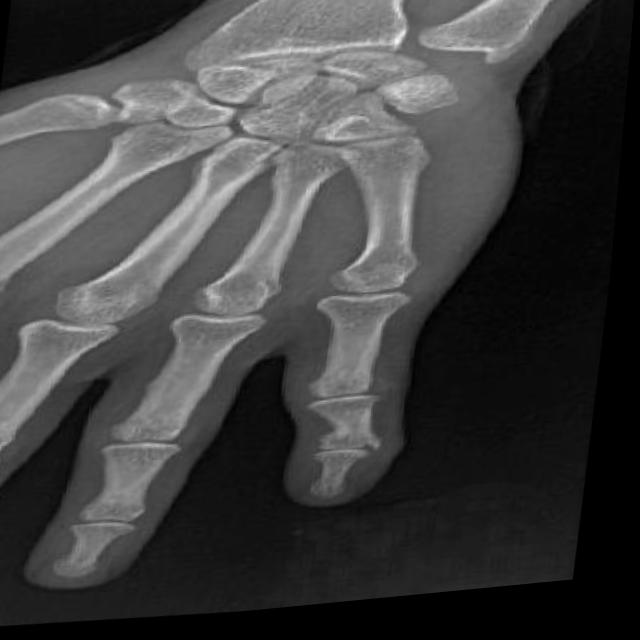fracture: (328, 432, 413, 473)
